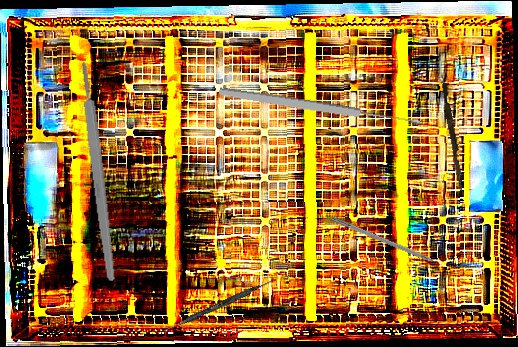Hook Surgical: (330, 215, 454, 273)
Pusher: (438, 82, 469, 196)
Scalpel Handle: (78, 61, 118, 282)
Spatula Surgical: (156, 274, 277, 339)
Surgical Spoon: (218, 85, 421, 129)
